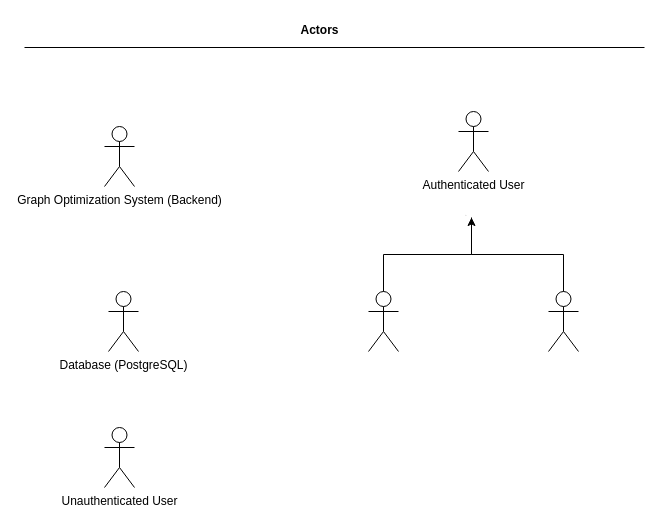
Some shapes in this 662 by 525 pixel diagram are drawn without their labels. Each missing label, with the centre of its shape:
Administrator: the point at 383,321
User: the point at 563,321
